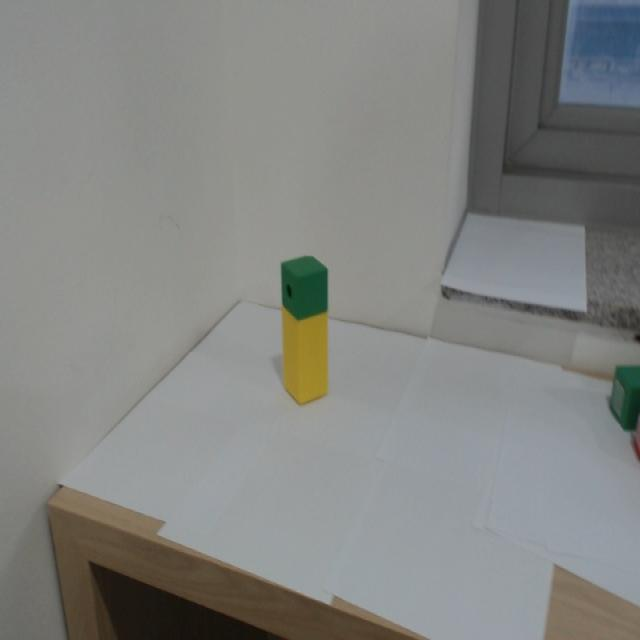cube: (281, 251, 330, 321)
